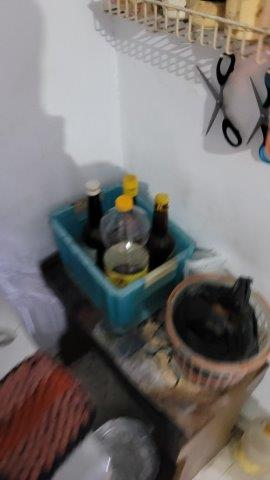botolkaca: (81, 169, 178, 275)
